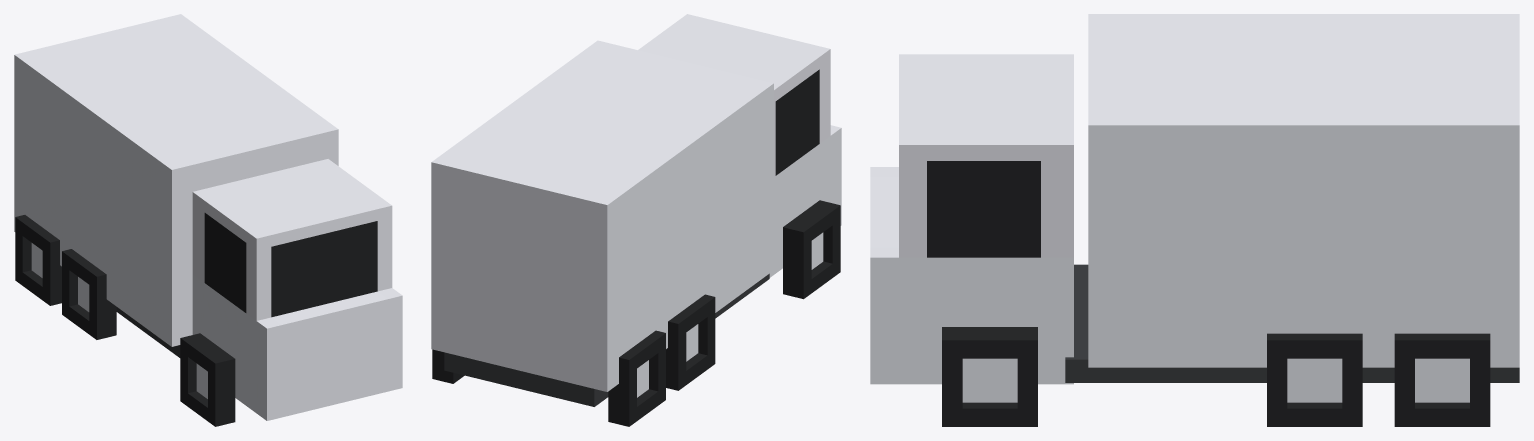
File: Truck.glb
3 views of the same model, side by side, from view 1: azimuth 30°, elevation 25°; view 2: azimuth 150°, elevation 25°; view 3: azimuth 270°, elevation 25° (orthographic). The views are drawn at different scales.
Parts seen in each view (by area): view 1: Body, Extras; view 2: Body, Extras; view 3: Body, Extras.
Boxes of the visible parts, <box> form: Body: <box>14,14,338,346</box>; Extras: <box>15,159,402,426</box>; Body: <box>431,40,773,391</box>; Extras: <box>432,14,841,426</box>; Body: <box>1088,14,1519,367</box>; Extras: <box>870,54,1519,426</box>.
Bounding box in the file's own units: 1.68 × 1.85 × 3.7.
Materials: 1 (1 with a texture image).
